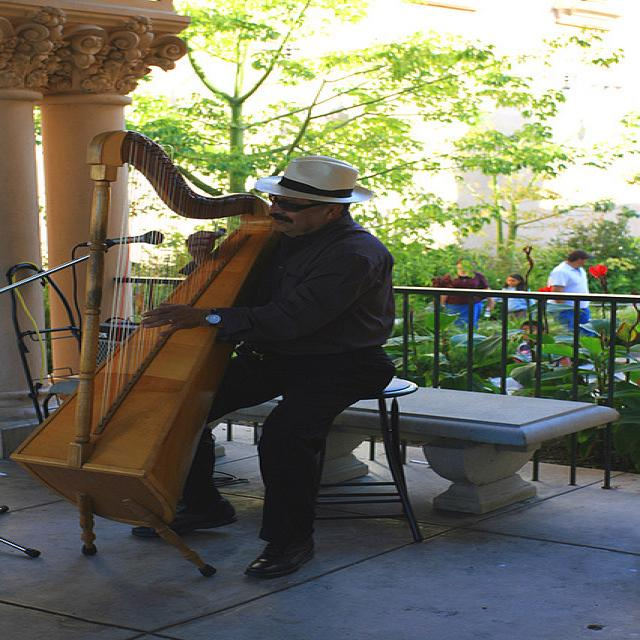harp: (9, 130, 300, 531)
